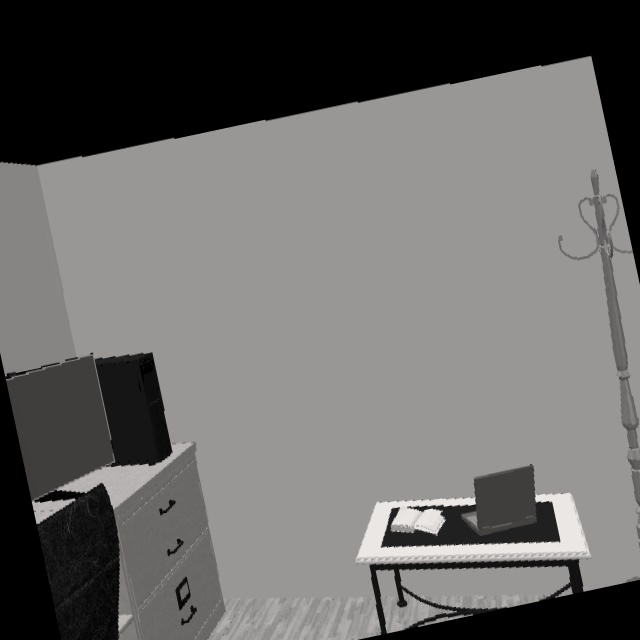book: (389, 508, 446, 535)
chair: (36, 490, 120, 640)
laptop: (464, 464, 543, 540)
monitor: (5, 355, 118, 505)
table: (355, 492, 591, 568)
